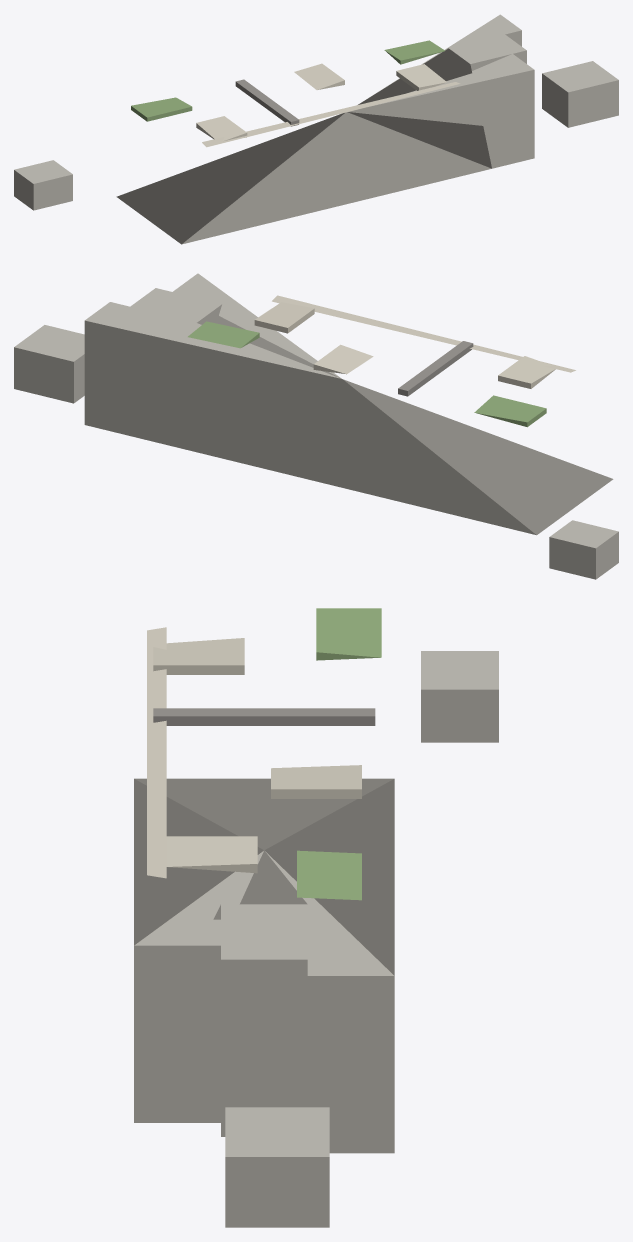
File: hy4_dintel_caido_rojo_20261108.glb
3 views of the same model, one above another, from view 1: azimuth 30°, elevation 25°; view 2: azimuth 150°, elevation 25°; view 3: azimuth 270°, elevation 25° (orthographic). The views are drawn at different scales.
Visible parts, largest first — view 1: SM_Dintel_Cuerpo_NOFUNDIR, SM_Dintel_Fragmento_NOFUNDIR, SM_Dintel_M_Dintel_Tallado, SM_Dintel_Escombro_NOFUNDIR, SM_Dintel_M_Dintel_Musgo, SM_Dintel_Grieta_NOFUNDIR; view 2: SM_Dintel_Cuerpo_NOFUNDIR, SM_Dintel_M_Dintel_Tallado, SM_Dintel_Fragmento_NOFUNDIR, SM_Dintel_Escombro_NOFUNDIR, SM_Dintel_M_Dintel_Musgo, SM_Dintel_Grieta_NOFUNDIR; view 3: SM_Dintel_Cuerpo_NOFUNDIR, SM_Dintel_M_Dintel_Tallado, SM_Dintel_Fragmento_NOFUNDIR, SM_Dintel_Escombro_NOFUNDIR, SM_Dintel_M_Dintel_Musgo, SM_Dintel_Grieta_NOFUNDIR.
Part boxes in pixels (x1,y1,x2,y2): SM_Dintel_Cuerpo_NOFUNDIR: (116, 14, 534, 244); SM_Dintel_Fragmento_NOFUNDIR: (542, 61, 618, 127); SM_Dintel_M_Dintel_Tallado: (196, 63, 460, 147); SM_Dintel_Escombro_NOFUNDIR: (14, 160, 72, 210); SM_Dintel_M_Dintel_Musgo: (131, 40, 445, 121); SM_Dintel_Grieta_NOFUNDIR: (235, 79, 299, 126); SM_Dintel_Cuerpo_NOFUNDIR: (84, 273, 613, 535); SM_Dintel_M_Dintel_Tallado: (254, 295, 575, 388); SM_Dintel_Fragmento_NOFUNDIR: (14, 325, 84, 403); SM_Dintel_Escombro_NOFUNDIR: (549, 520, 618, 579); SM_Dintel_M_Dintel_Musgo: (188, 321, 546, 427); SM_Dintel_Grieta_NOFUNDIR: (398, 341, 473, 396); SM_Dintel_Cuerpo_NOFUNDIR: (134, 778, 394, 1153); SM_Dintel_M_Dintel_Tallado: (147, 627, 361, 878); SM_Dintel_Fragmento_NOFUNDIR: (225, 1107, 329, 1227); SM_Dintel_Escombro_NOFUNDIR: (421, 651, 498, 742); SM_Dintel_M_Dintel_Musgo: (297, 608, 381, 900); SM_Dintel_Grieta_NOFUNDIR: (153, 708, 375, 725).
Size of the model in its own units: 1.9 by 0.308 by 0.56.
